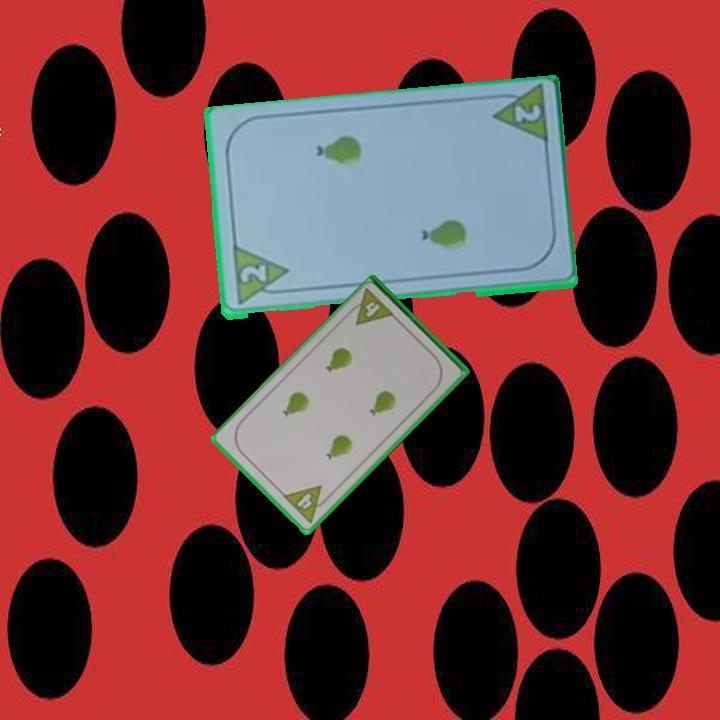2p: (510, 99, 544, 126), (236, 261, 269, 288)
4p: (279, 482, 334, 526), (343, 285, 398, 328)
